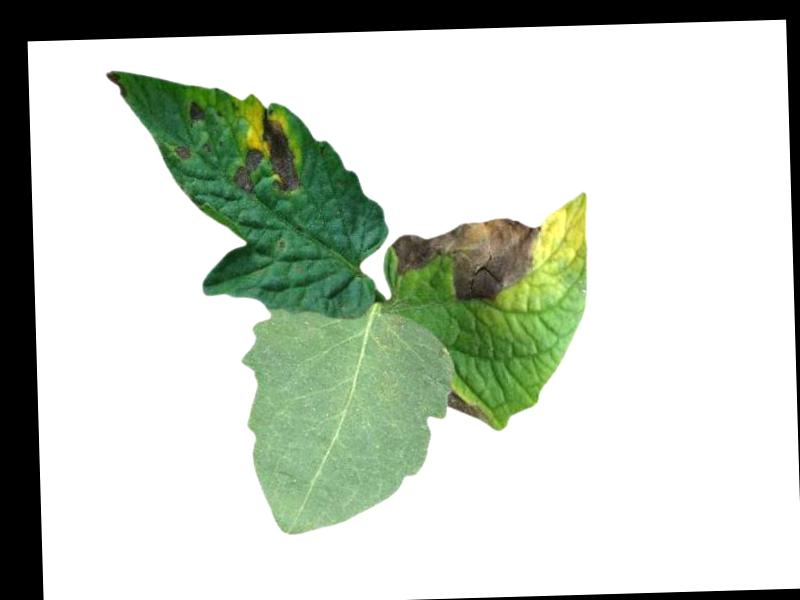Early_blight: (389, 214, 544, 306), (230, 105, 302, 197), (447, 384, 487, 423), (105, 70, 126, 99), (189, 99, 205, 122), (174, 146, 194, 160)
healthy: (239, 299, 459, 537)
